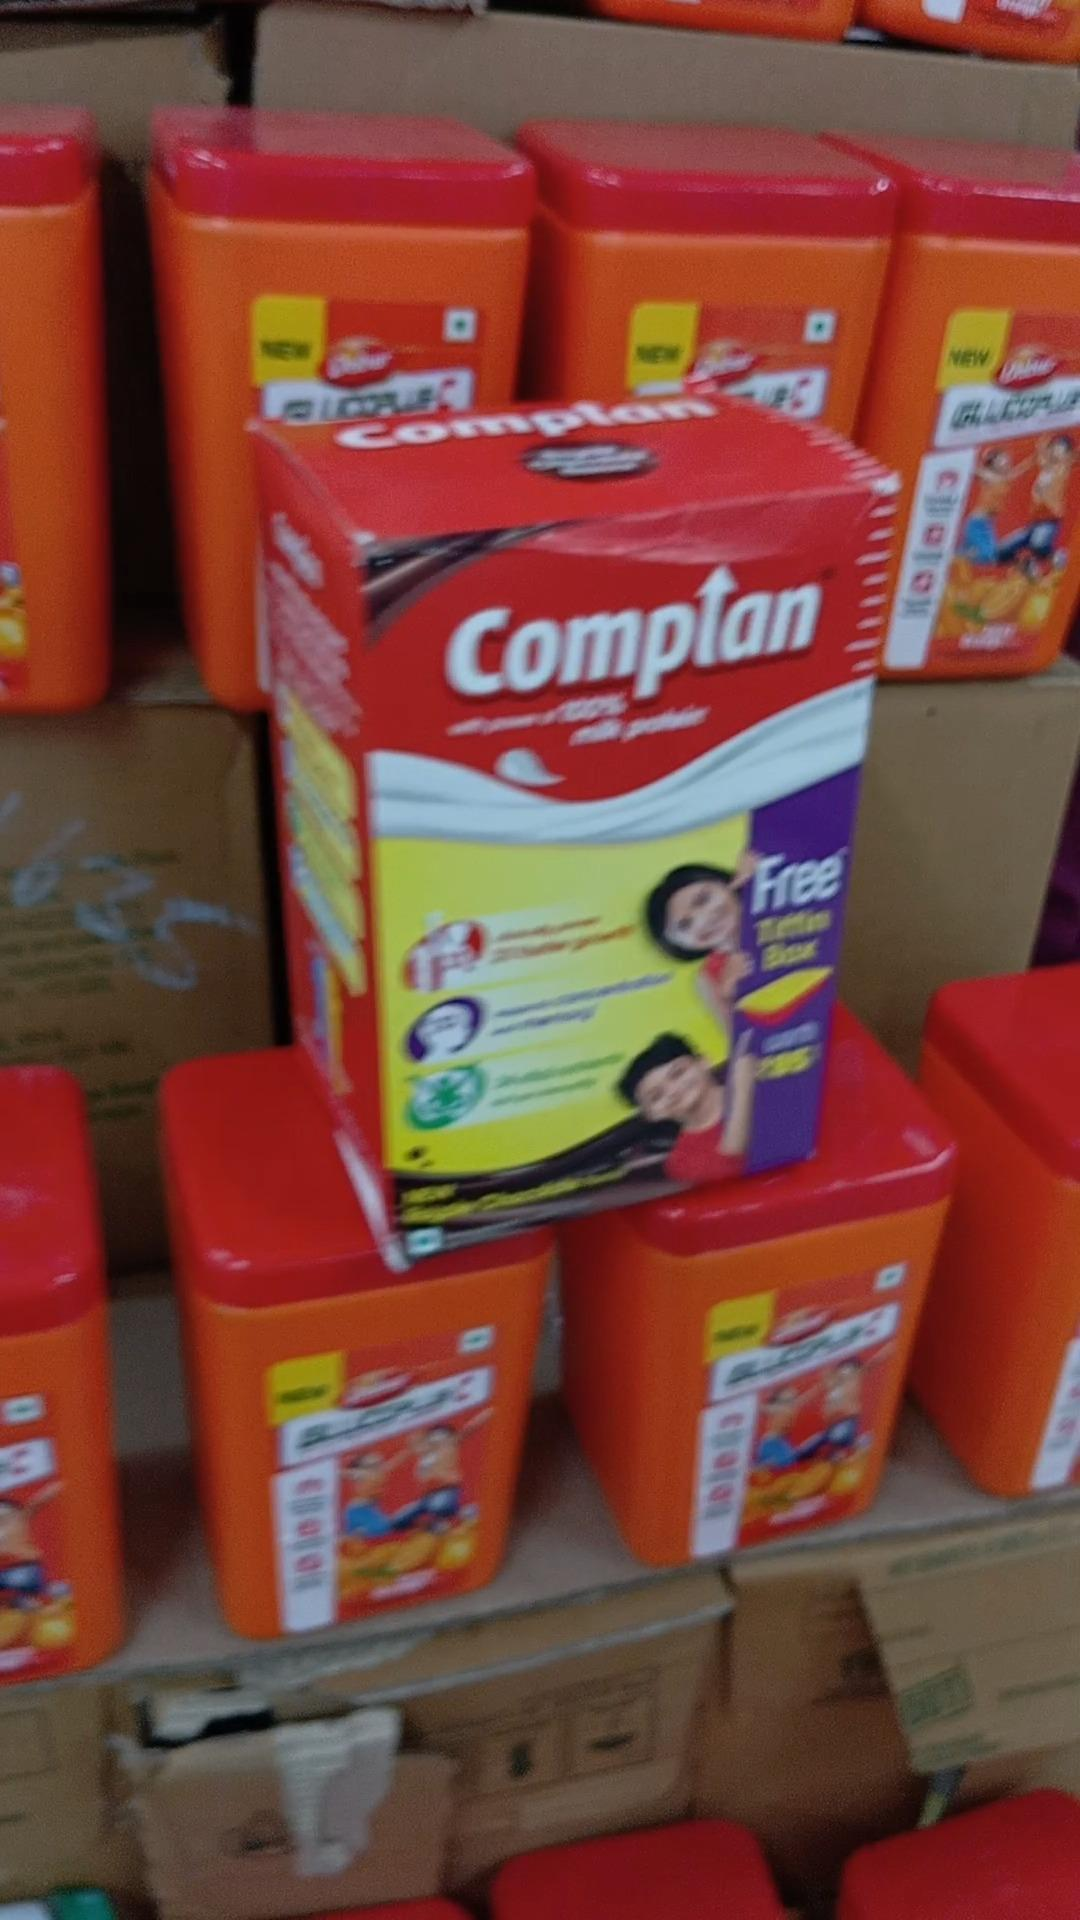COMPLAN_CHOCOLATE_500_GMS_PACK: (368, 508, 869, 1203)
